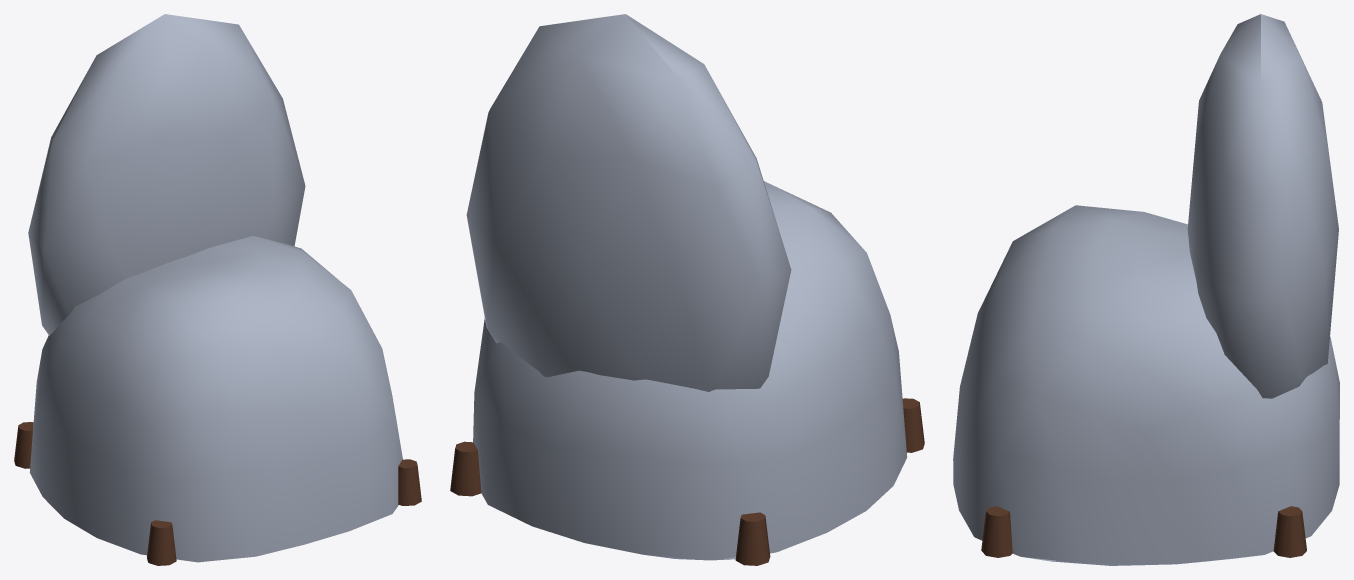
The model's file is ghost_covered_chair.glb.
3 renders of one model, left to right at view 1: azimuth 30°, elevation 25°; view 2: azimuth 150°, elevation 25°; view 3: azimuth 270°, elevation 25°, orthographic. The views are drawn at different scales.
Parts seen in each view (by area): view 1: ghost_covered_chair; view 2: ghost_covered_chair; view 3: ghost_covered_chair.
Part boxes in pixels (left/top/right/bottom): ghost_covered_chair: left=14, top=14, right=421, bottom=565; ghost_covered_chair: left=450, top=14, right=924, bottom=565; ghost_covered_chair: left=953, top=14, right=1339, bottom=565.
Size of the model in its own units: 0.7952 by 1.07 by 0.7949.
